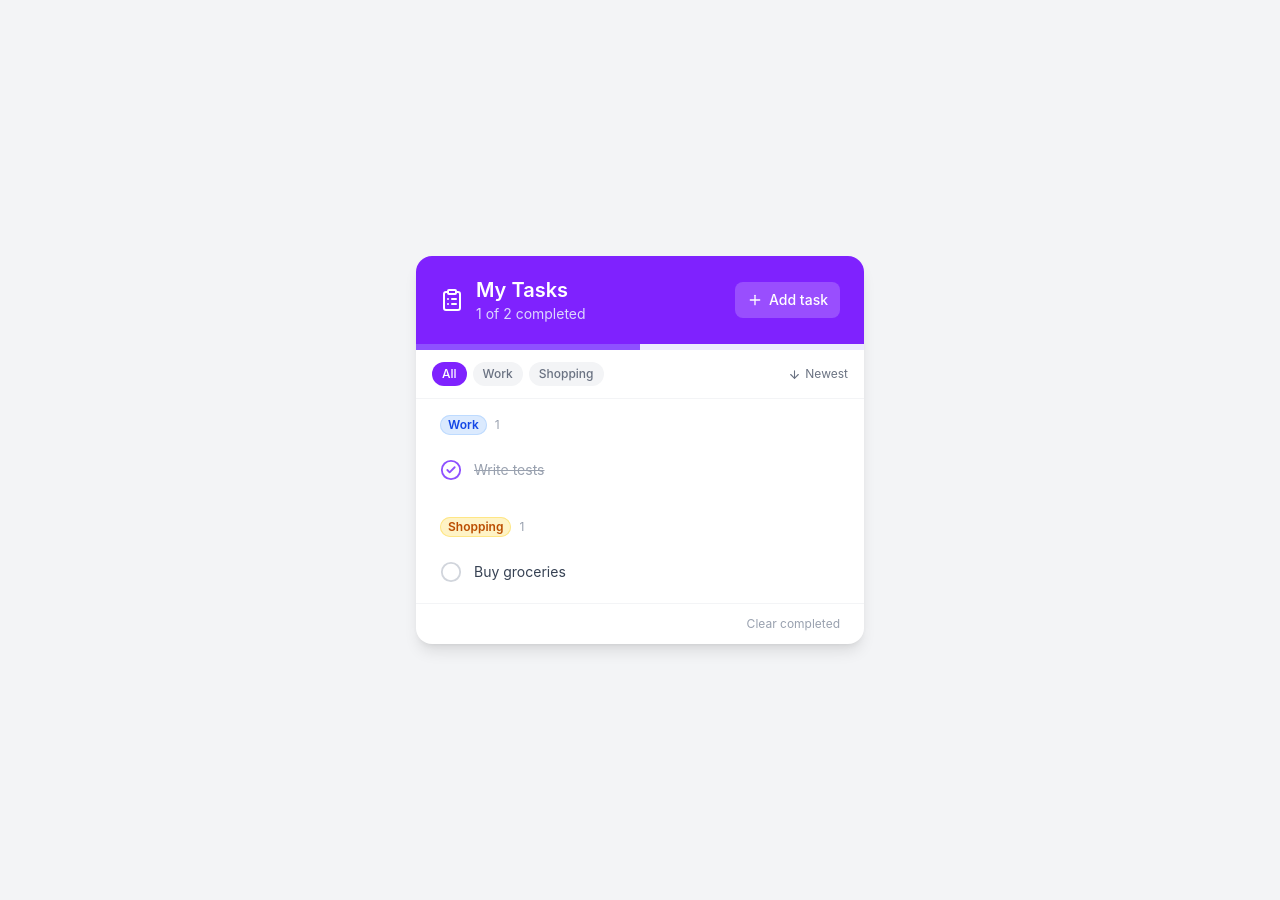
TodoList › adds a task by pressing Enter
Click the button "Add task" at (788, 300), box [735,282,840,318]
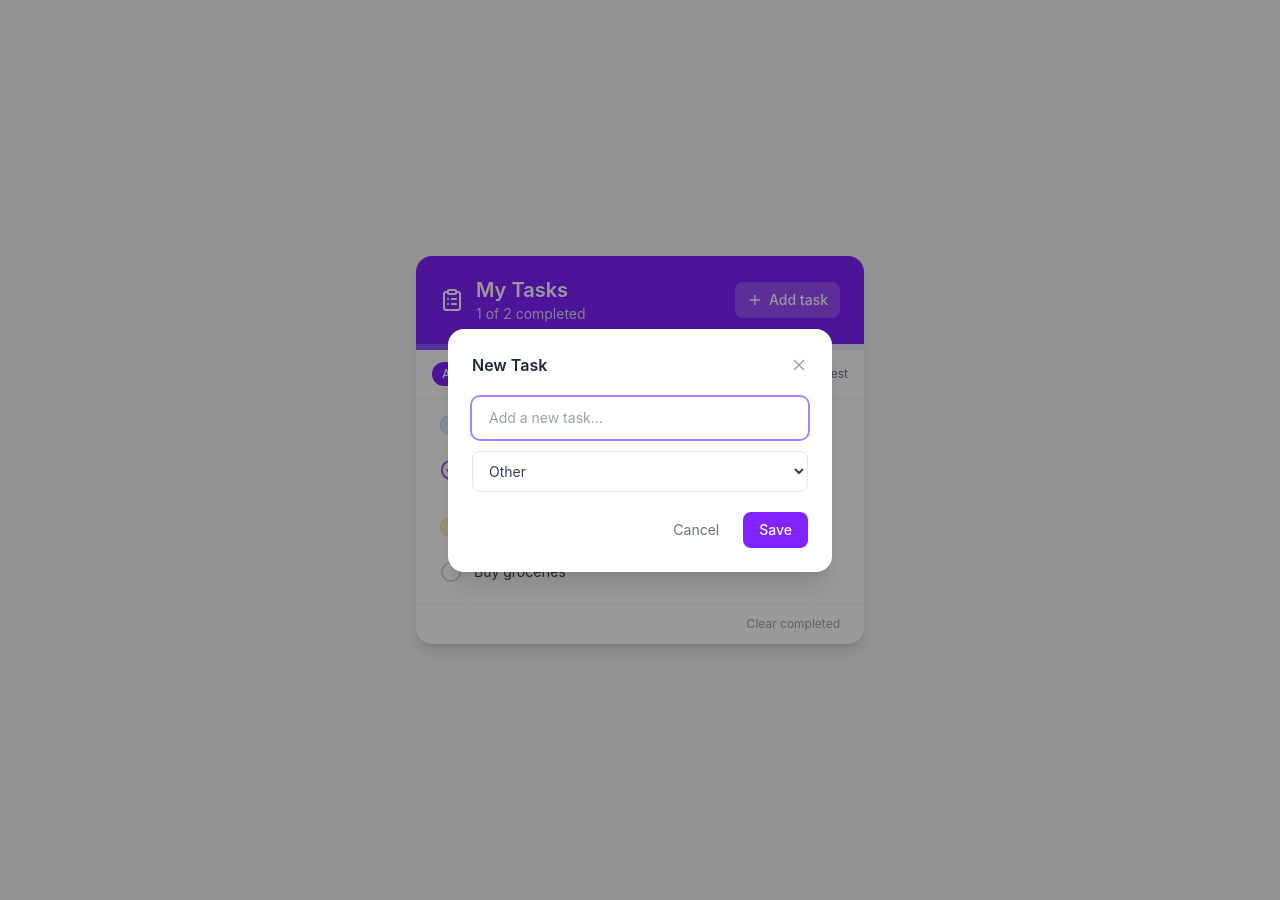
Type "Enter task" into the field with placeholder "Add a new task…" at (640, 418), box [472,396,808,438]
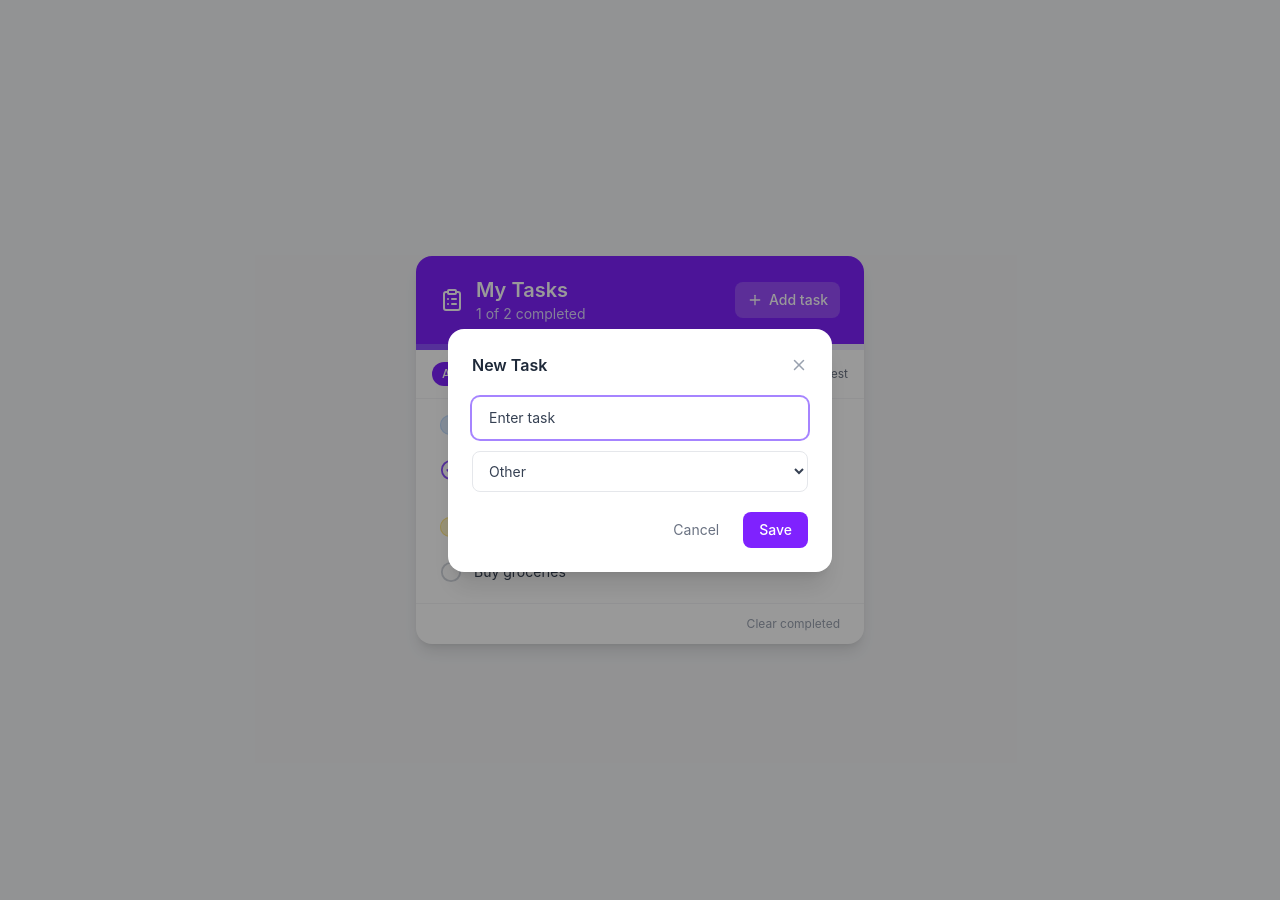
Press Enter in the field with placeholder "Add a new task…", box [472,396,808,438]
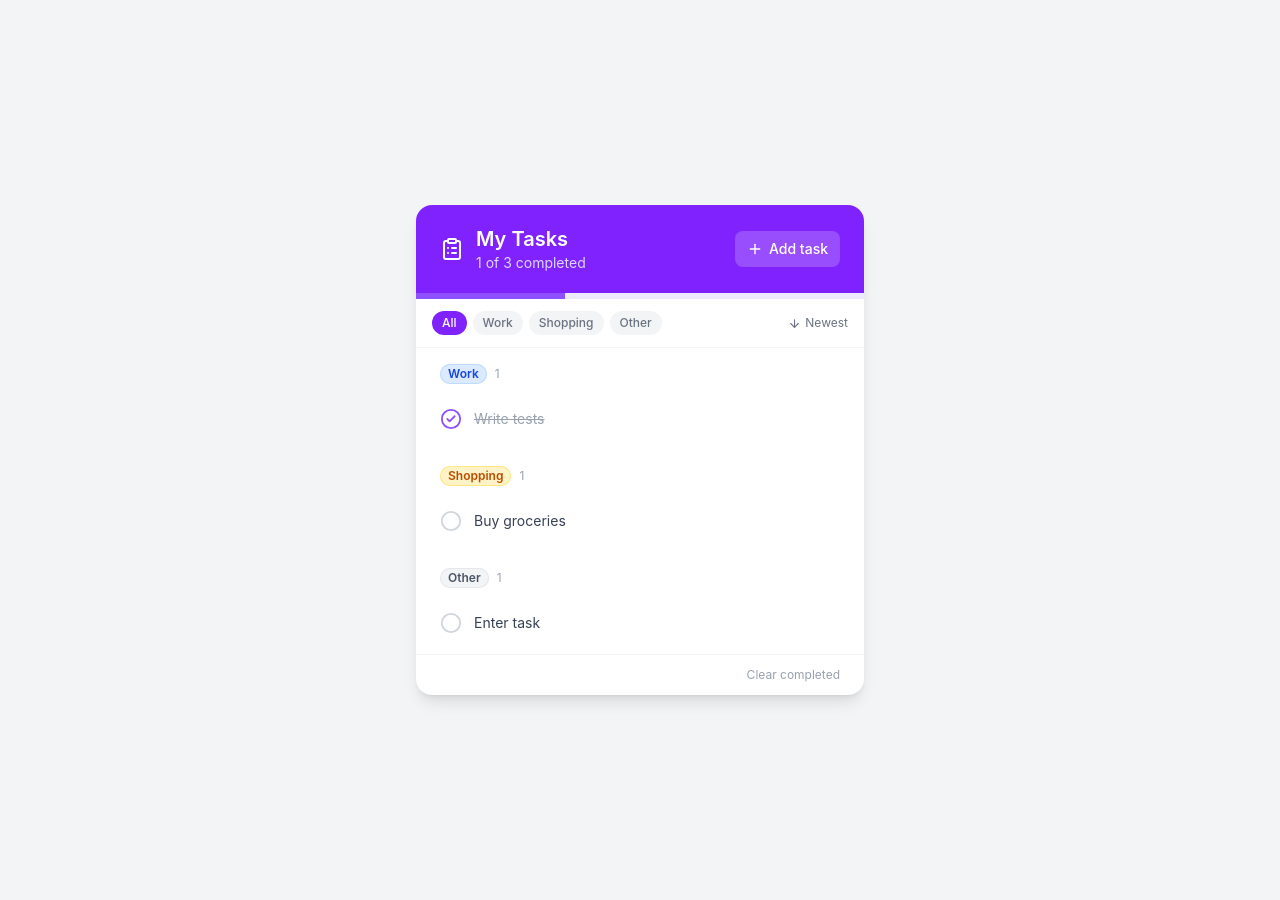
Result: the text "Enter task" is shown at [474,614,540,631]
